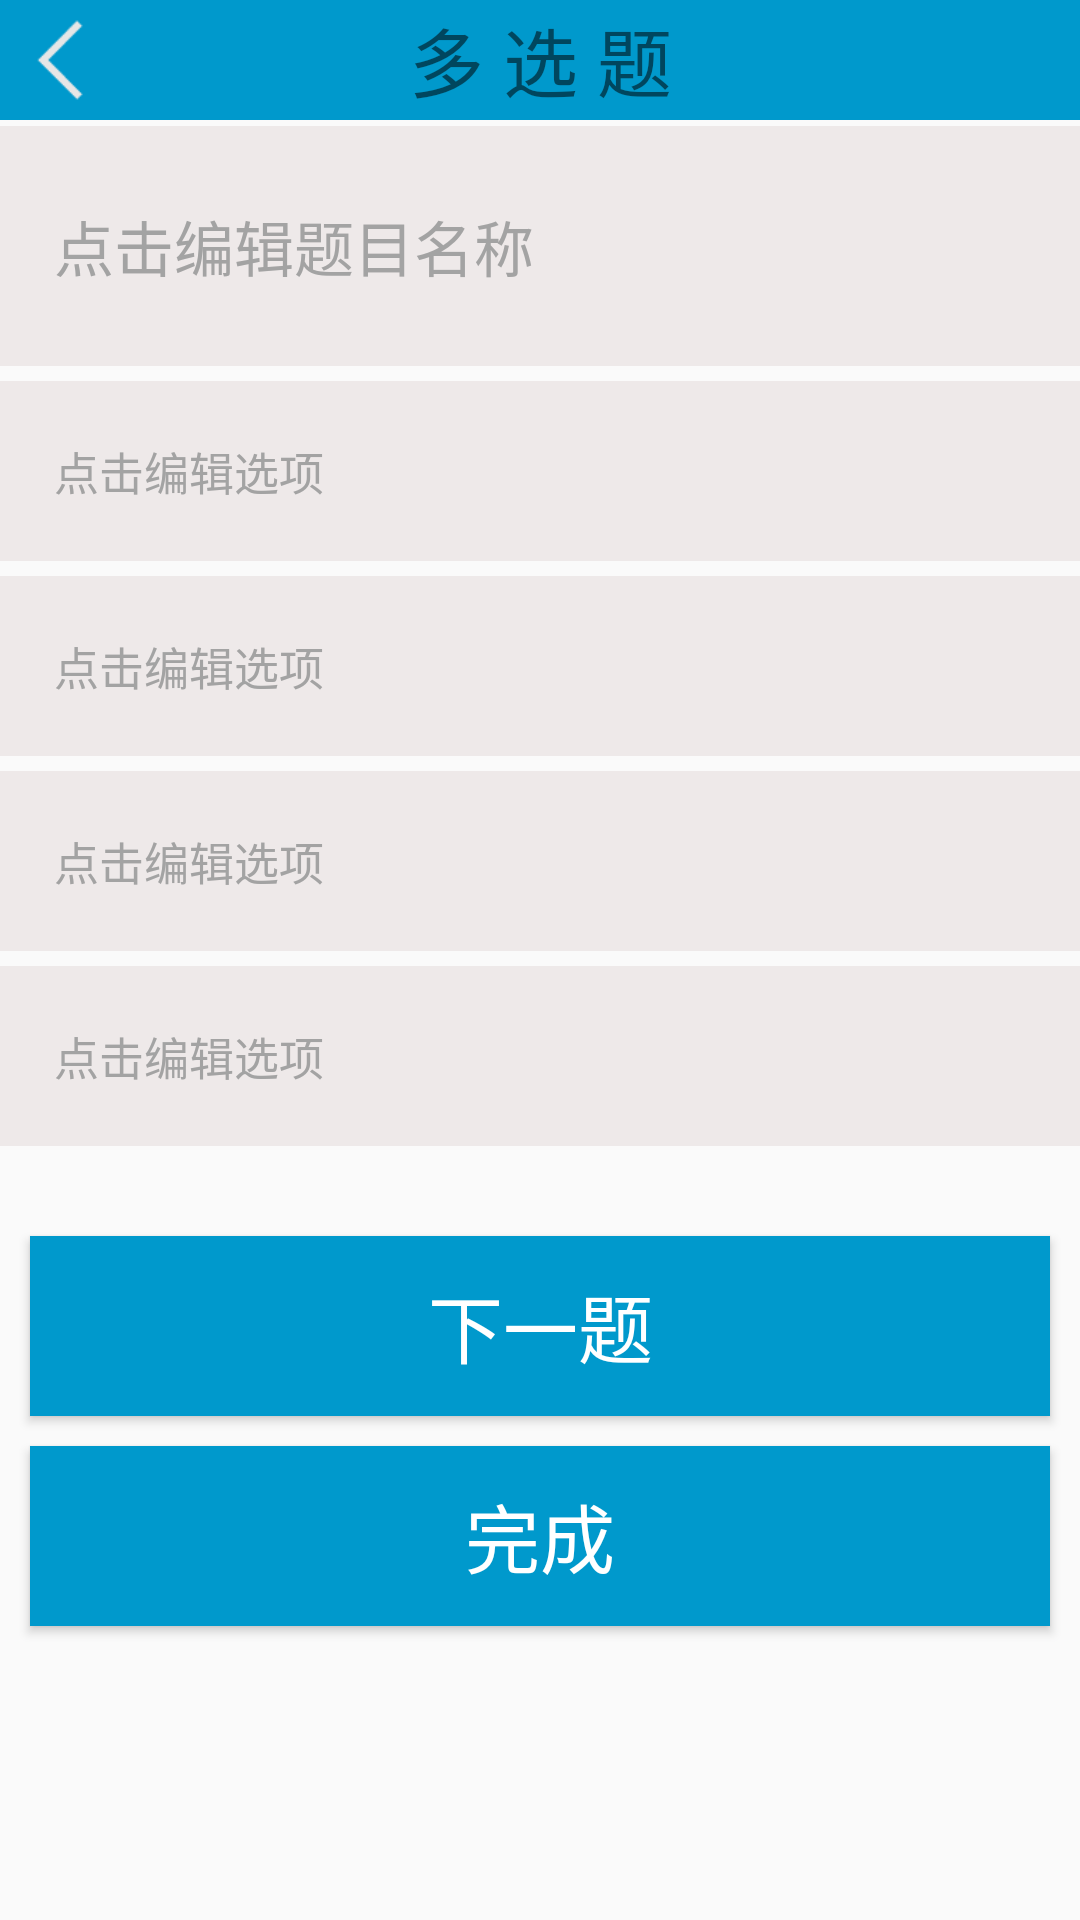

Screen size 1080x1920. Icon name, then its box in pixels as (x1, y1, x2, y2):
back: (37, 20, 83, 100)
